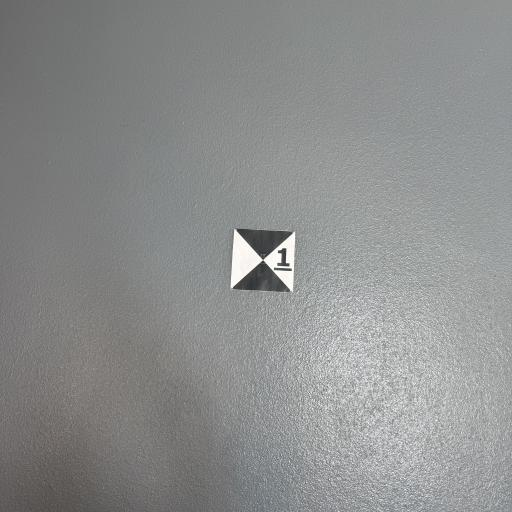target1: (225, 221, 305, 303)
